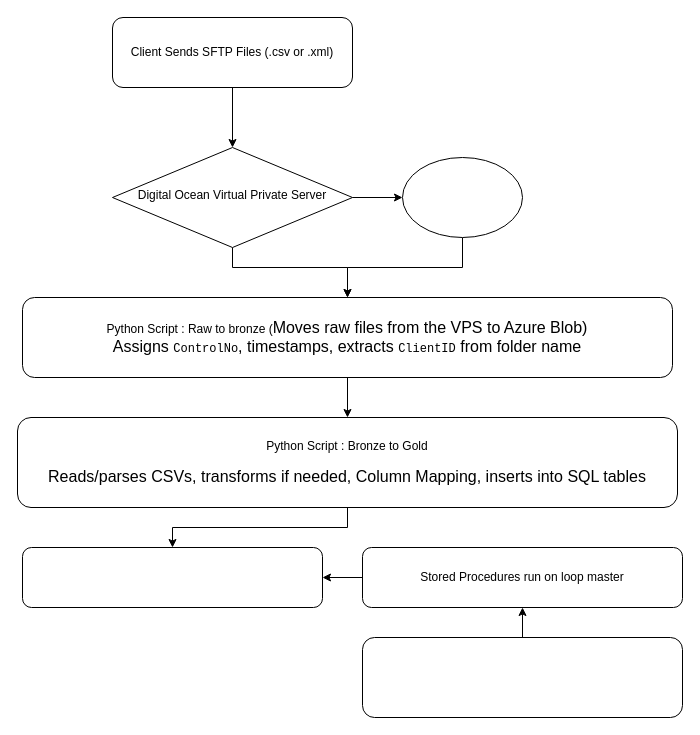
The diagram is 700 pixels wide and 735 high, and some of its shapes have lost their labels. Here are the shapes that lost their labels. From the top down, the box of each, then its label:
(402, 156, 522, 238): Server Provisioning via Terminal (One time setup)
(22, 546, 322, 608): SQL Warehouse Server
(362, 636, 682, 718): Power Bi Dashboard
